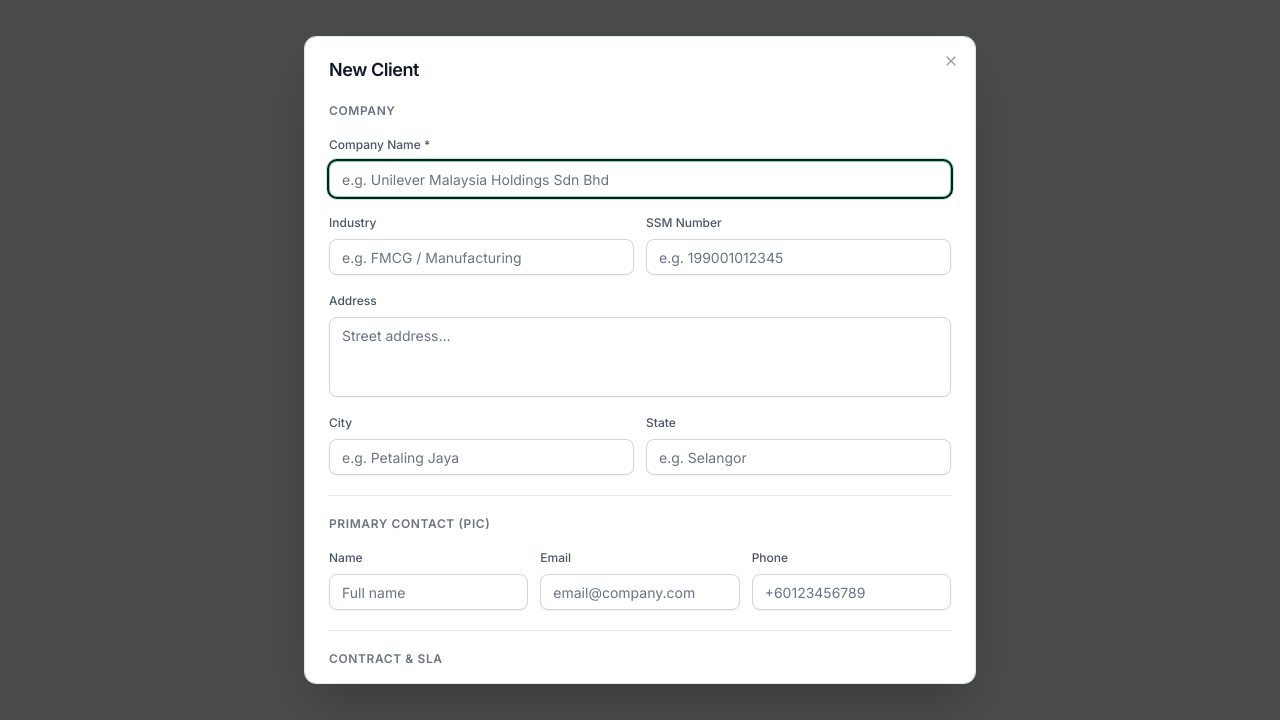
Test: ClientForm — Validation › shows error for invalid diversion target (>100)
Type "Test Company" into the field with placeholder "e.g. Unilever Malaysia Holdings Sdn Bhd" at coordinates (640, 179), box [329,161,951,197]
(page scrolled)
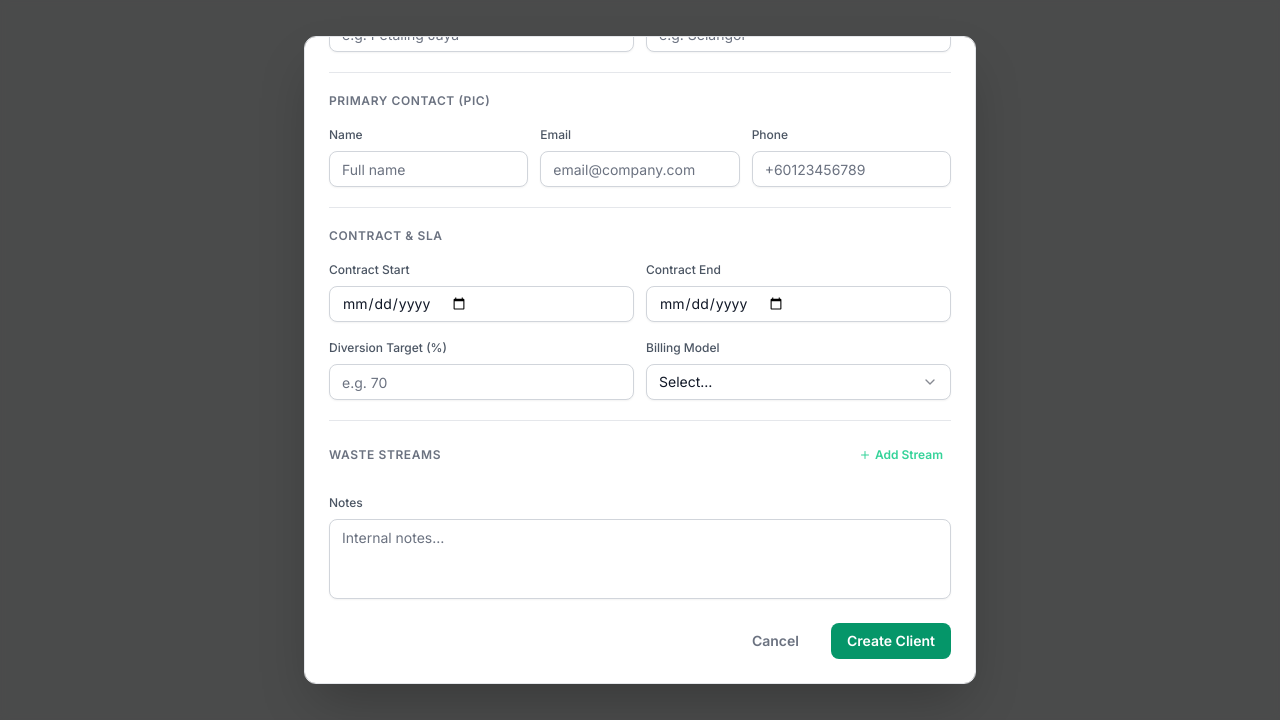
Type "150" into the number field with placeholder "e.g. 70" at coordinates (482, 382), box [329,364,634,400]
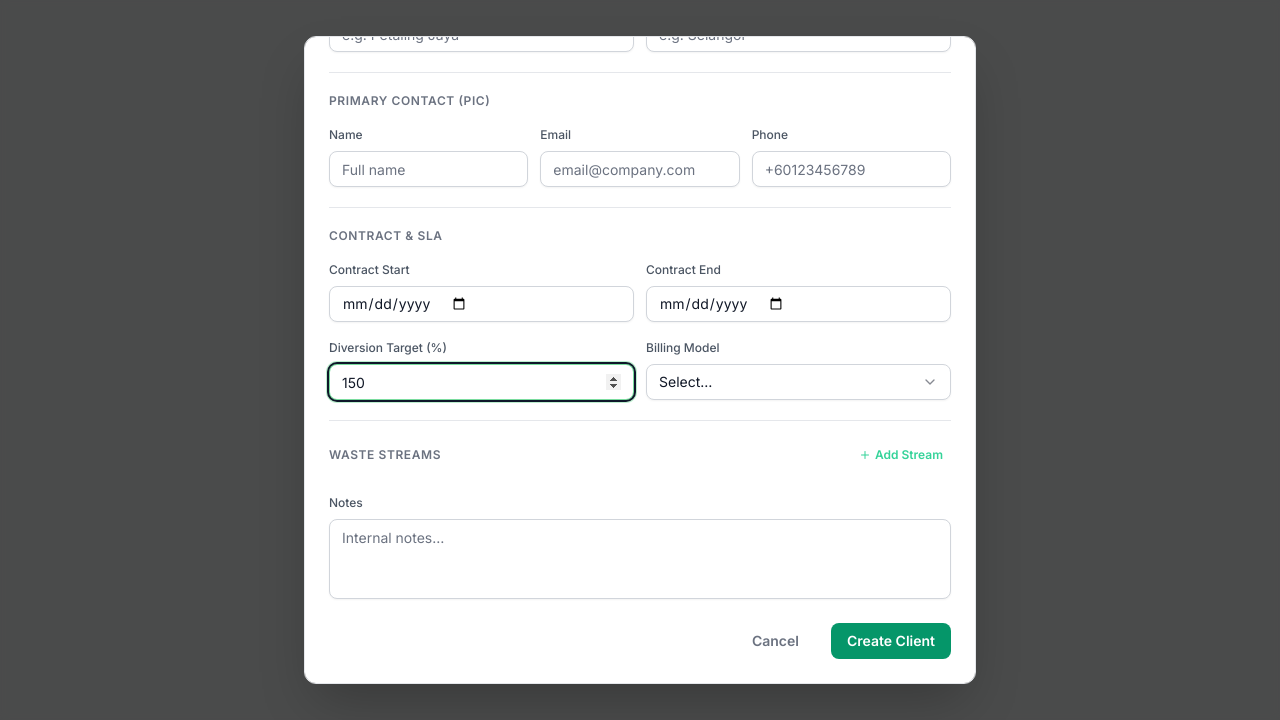
Click the button "Create Client" at coordinates (891, 641), box [831,623,951,659]
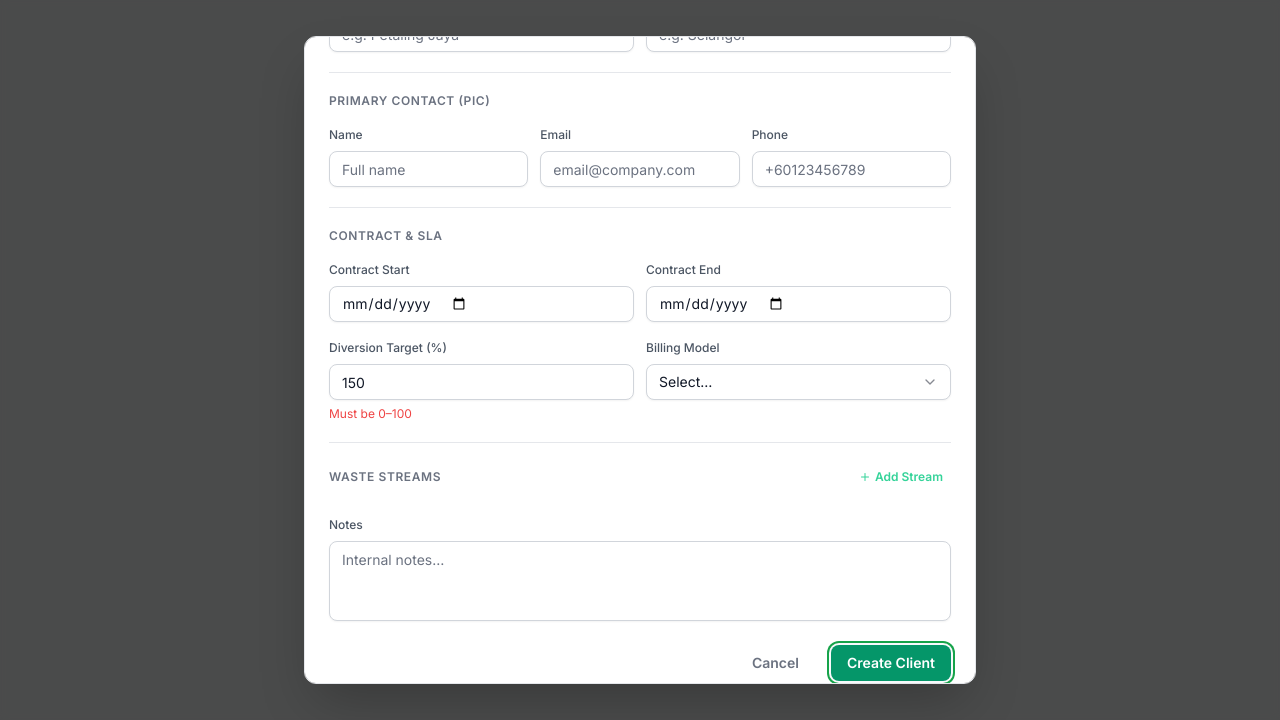
Expected: the text "Must be 0–100" is shown, [329,406,412,421]
